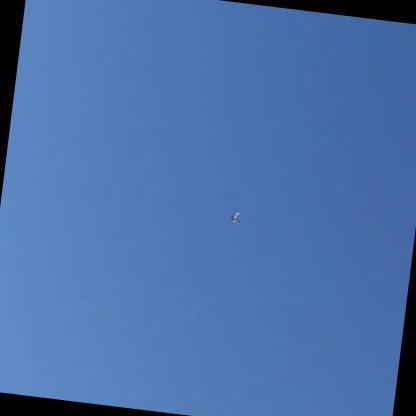plane: (228, 212, 240, 224)
